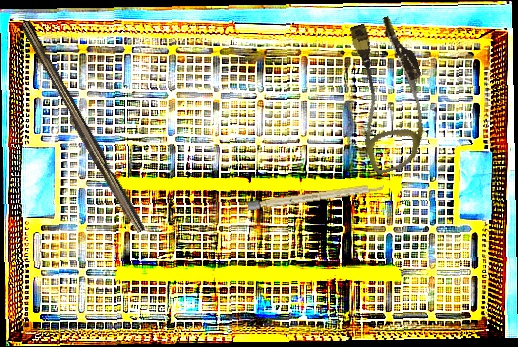Cannula: (331, 11, 446, 177)
Scalpel Handle: (13, 20, 150, 236), (247, 182, 385, 211)
